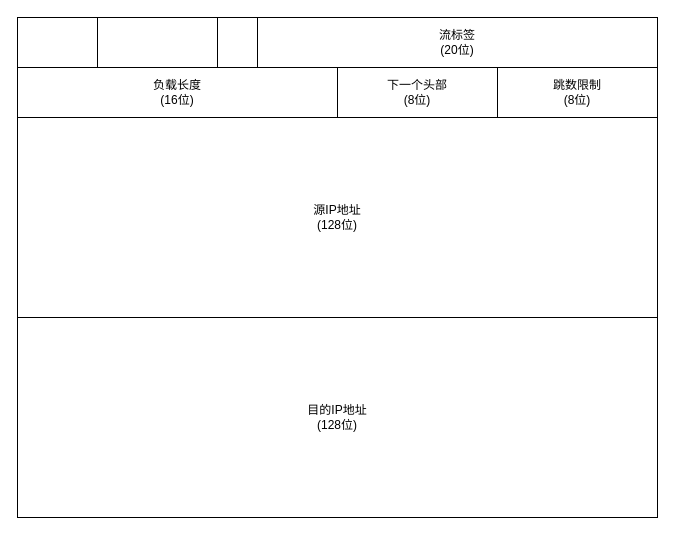
Image size: 675x535. Some labels were removed from this diagram. The shapes that lost their labels are listed below. From the top down, each one's centre as x and y in pixels, then its label:
At point 57,42: "版本 (4位)".
At point 157,42: "DS字段 (6位)".
At point 237,42: "ECN (2位)".
